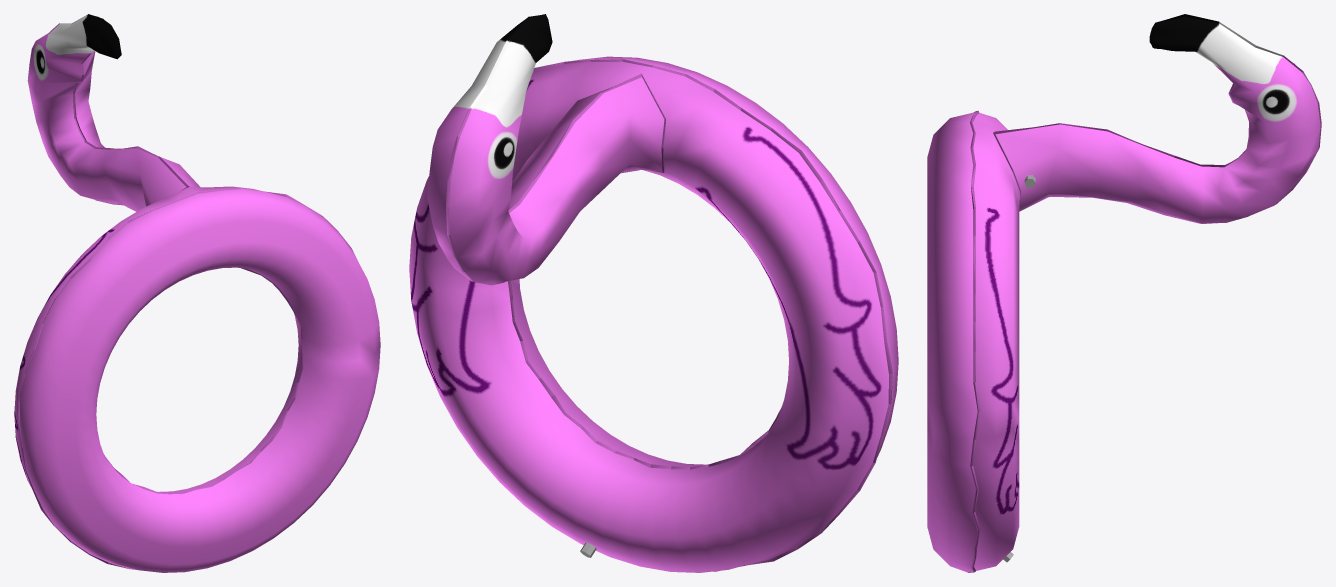
File: SuspiciousObject.fbx
3 views of the same model, side by side, from view 1: azimuth 30°, elevation 25°; view 2: azimuth 150°, elevation 25°; view 3: azimuth 270°, elevation 25° (orthographic). The views are drawn at different scales.
Parts seen in each view (by area): view 1: Torus; view 2: Torus; view 3: Torus.
Part boxes in pixels (bbox=[...]): Torus: bbox=[14, 14, 380, 572]; Torus: bbox=[409, 14, 898, 572]; Torus: bbox=[927, 14, 1321, 572].
Bounding box in the file's own units: 323 × 214 × 252.
